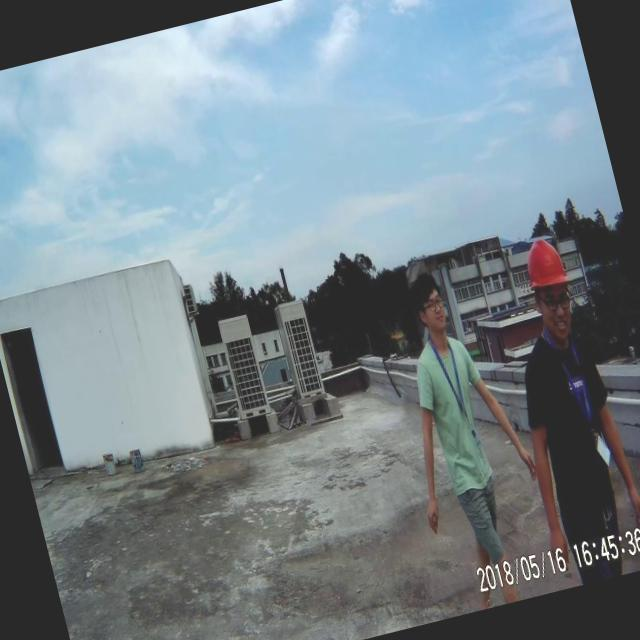helmet: (512, 238, 582, 300)
no-helmet: (406, 270, 452, 326)
no-vest: (518, 320, 636, 507), (408, 351, 505, 492)
